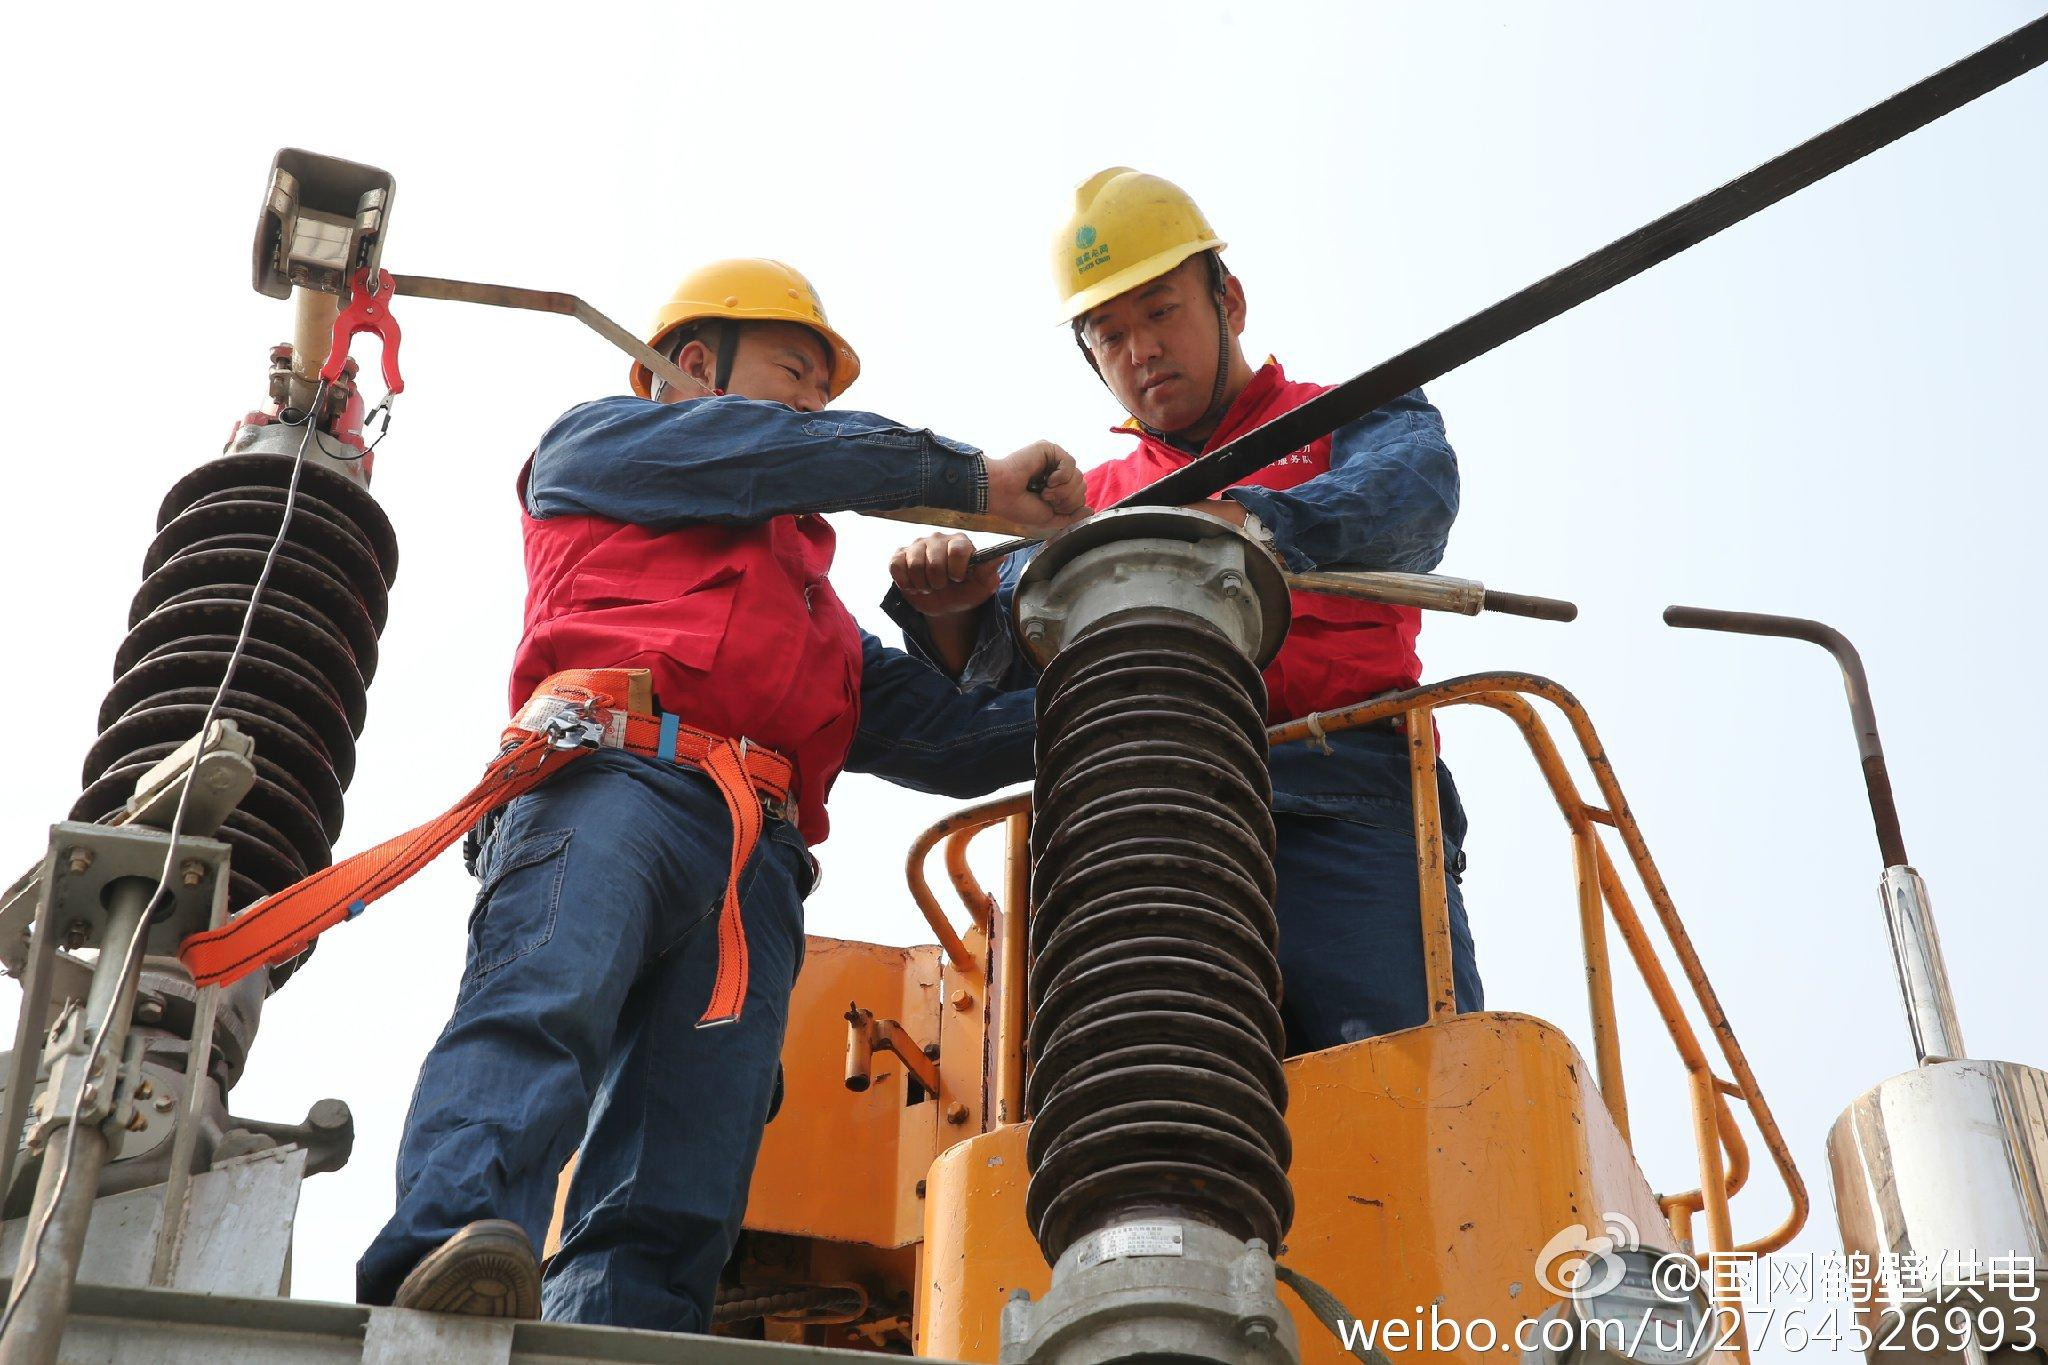helmet: (615, 259, 866, 395), (1055, 158, 1226, 324)
